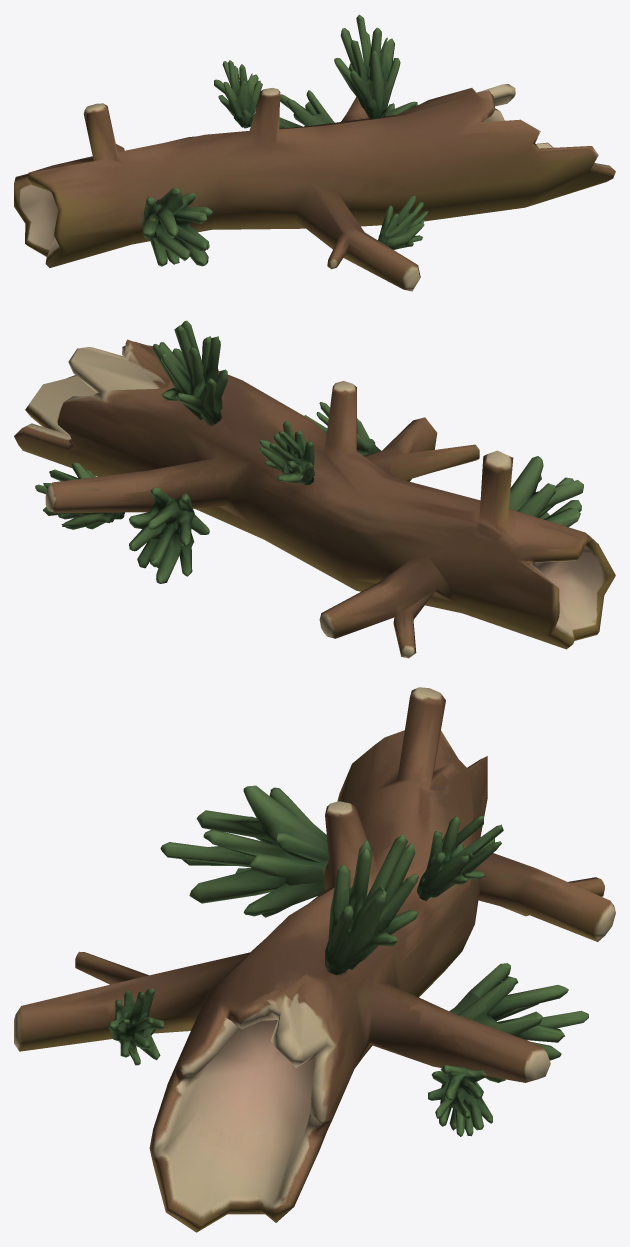
Rendered from fallen_cedar_branch.glb.
3 renders of one model, top to bottom at view 1: azimuth 30°, elevation 25°; view 2: azimuth 150°, elevation 25°; view 3: azimuth 270°, elevation 25°, orthographic. The views are drawn at different scales.
Visible parts, largest first — view 1: tripo_node_af6ff252-7454-4c29-baf0-16e827b57984; view 2: tripo_node_af6ff252-7454-4c29-baf0-16e827b57984; view 3: tripo_node_af6ff252-7454-4c29-baf0-16e827b57984.
Boxes of the visible parts, x1,y1,x2,y2 form: tripo_node_af6ff252-7454-4c29-baf0-16e827b57984: (14, 14, 615, 291); tripo_node_af6ff252-7454-4c29-baf0-16e827b57984: (14, 320, 615, 658); tripo_node_af6ff252-7454-4c29-baf0-16e827b57984: (14, 687, 615, 1232).
Bounding box in the file's own units: 0.998 × 0.334 × 0.6504.
Materials: 1 (1 with a texture image).
